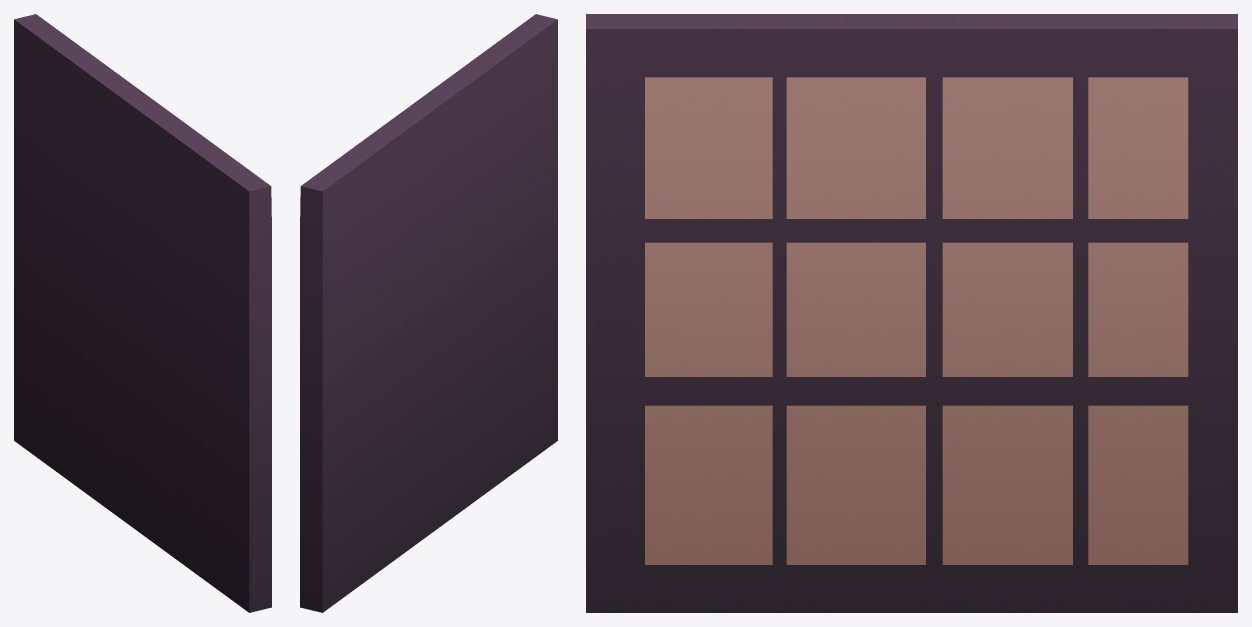
Rendered from JanelaCasaCemiterio.fbx.
The picture shows the model from 3 angles, left to right: view 1: azimuth 30°, elevation 25°; view 2: azimuth 150°, elevation 25°; view 3: azimuth 270°, elevation 25°; orthographic projection. The views are drawn at different scales.
Visible parts, largest first — view 1: pCube52; view 2: pCube52; view 3: pCube52.
Part boxes in pixels (x1=…): pCube52: x1=14, y1=14, x2=271, y2=612; pCube52: x1=300, y1=14, x2=557, y2=612; pCube52: x1=586, y1=14, x2=1237, y2=612.
Size of the model in its own units: 0.1566 by 2.79 by 2.83.
